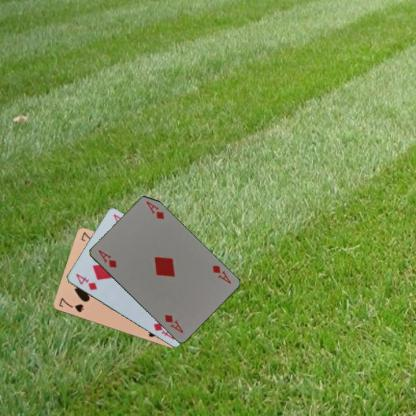4d: (73, 271, 98, 291)
7s: (56, 295, 85, 314)
Ad: (95, 247, 118, 270), (209, 262, 232, 285)
